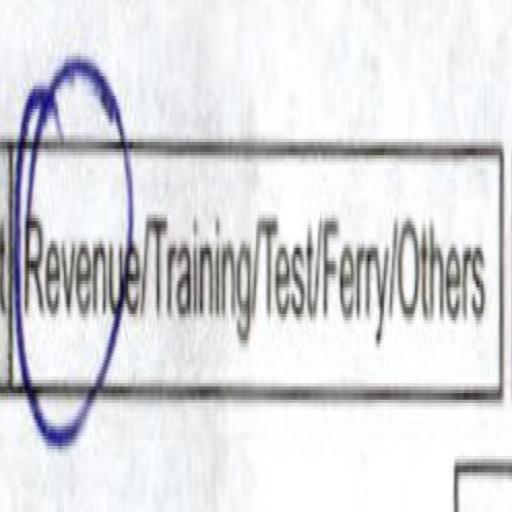check: (10, 48, 140, 450)
